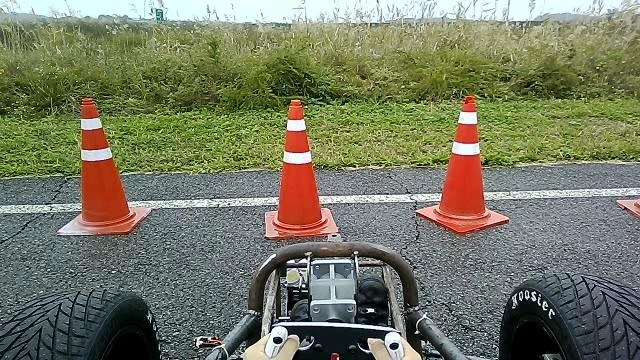red cone: (415, 95, 511, 234), (56, 96, 151, 236), (263, 97, 340, 239)
